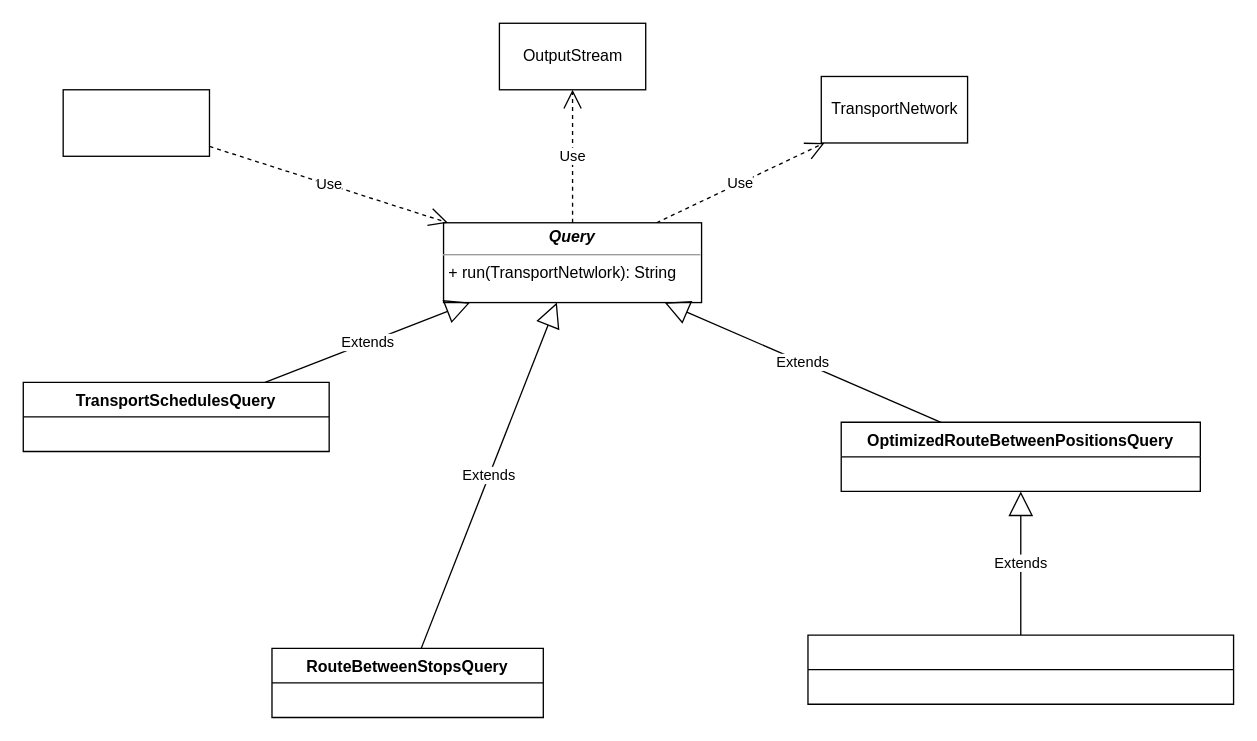
This 1257x741 diagram has some shape labels left out. Each missing label, with the centre of its shape:
Main: the point at 135,122
OptimizedRouteBetweenPositionsWithWalkQuery: the point at 1020,669
